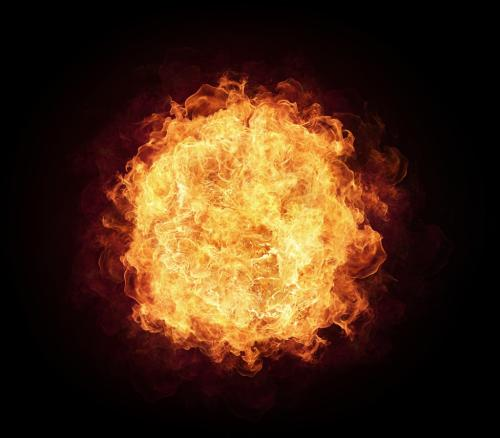fire: (121, 119, 384, 356)
